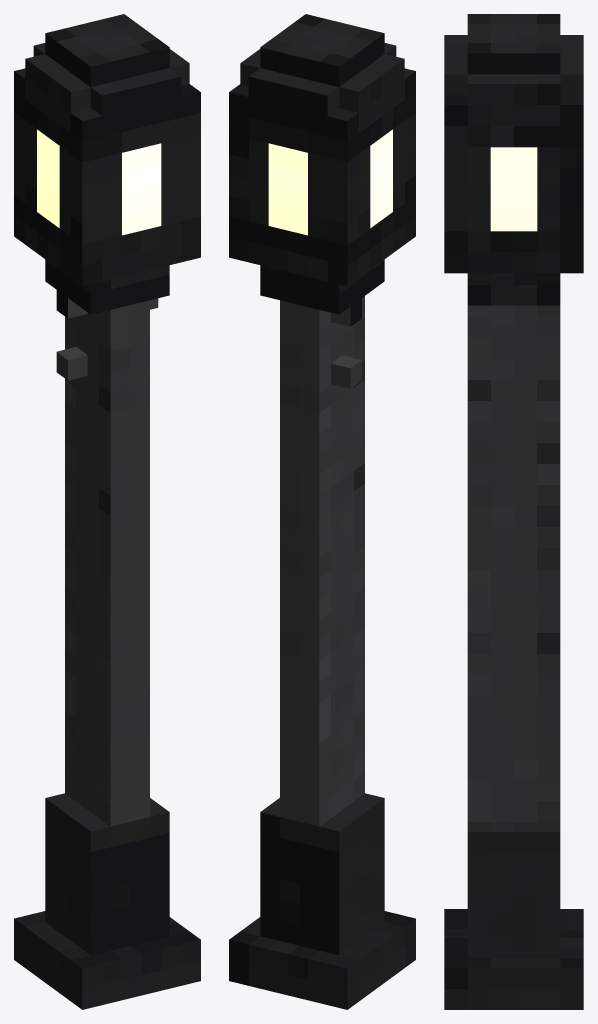
File: lamp.glb
3 renders of one model, left to right at view 1: azimuth 30°, elevation 25°; view 2: azimuth 150°, elevation 25°; view 3: azimuth 270°, elevation 25°, orthographic.
Visible parts, largest first — view 1: post, light; view 2: post, light; view 3: post, light.
Part boxes in pixels (left/top/right/bottom): post: left=14, top=14, right=200, bottom=1009; light: left=37, top=129, right=161, bottom=235; post: left=229, top=14, right=415, bottom=1009; light: left=268, top=129, right=392, bottom=235; post: left=444, top=14, right=583, bottom=1009; light: left=490, top=147, right=537, bottom=231.
Bounding box in the file's own units: 0.6 × 4.5 × 0.6.
2 materials, 2 textured.
